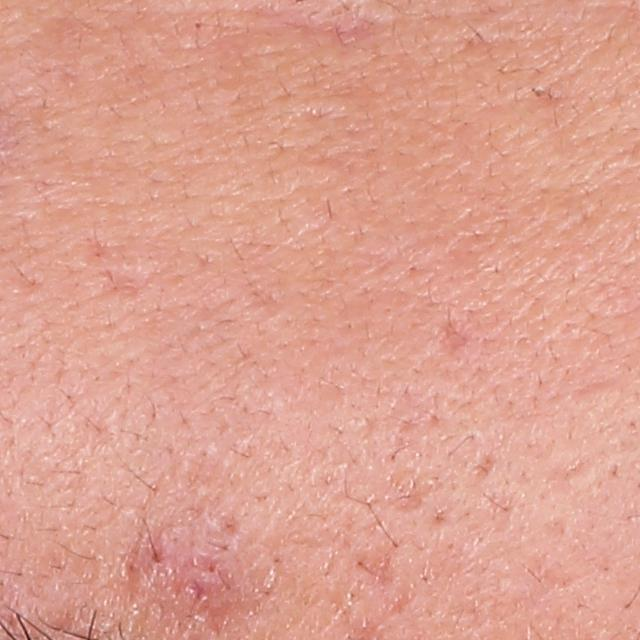atrophic_scar: (81, 236, 160, 303), (341, 543, 398, 586), (437, 322, 473, 359), (472, 450, 497, 482)
